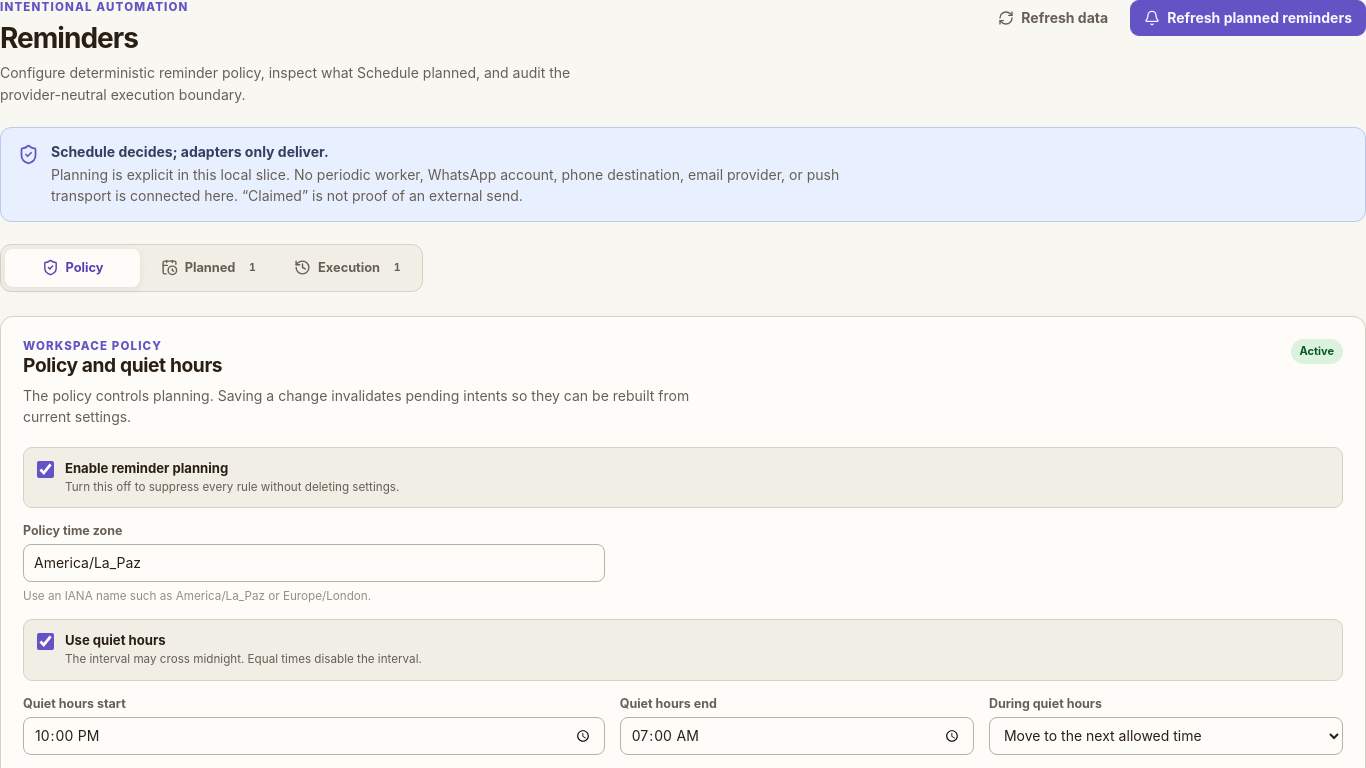
Scenario: RemindersView › requeues a dead-letter delivery, refreshes history, and does not claim an external send
Expected: the heading "Policy and quiet hours" is shown, [23,353,222,377]
What coordinates should you click on to do the following:
click the tab "Execution 1"
I would click on:
 (351, 268)
Its box is [283,249,418,287].
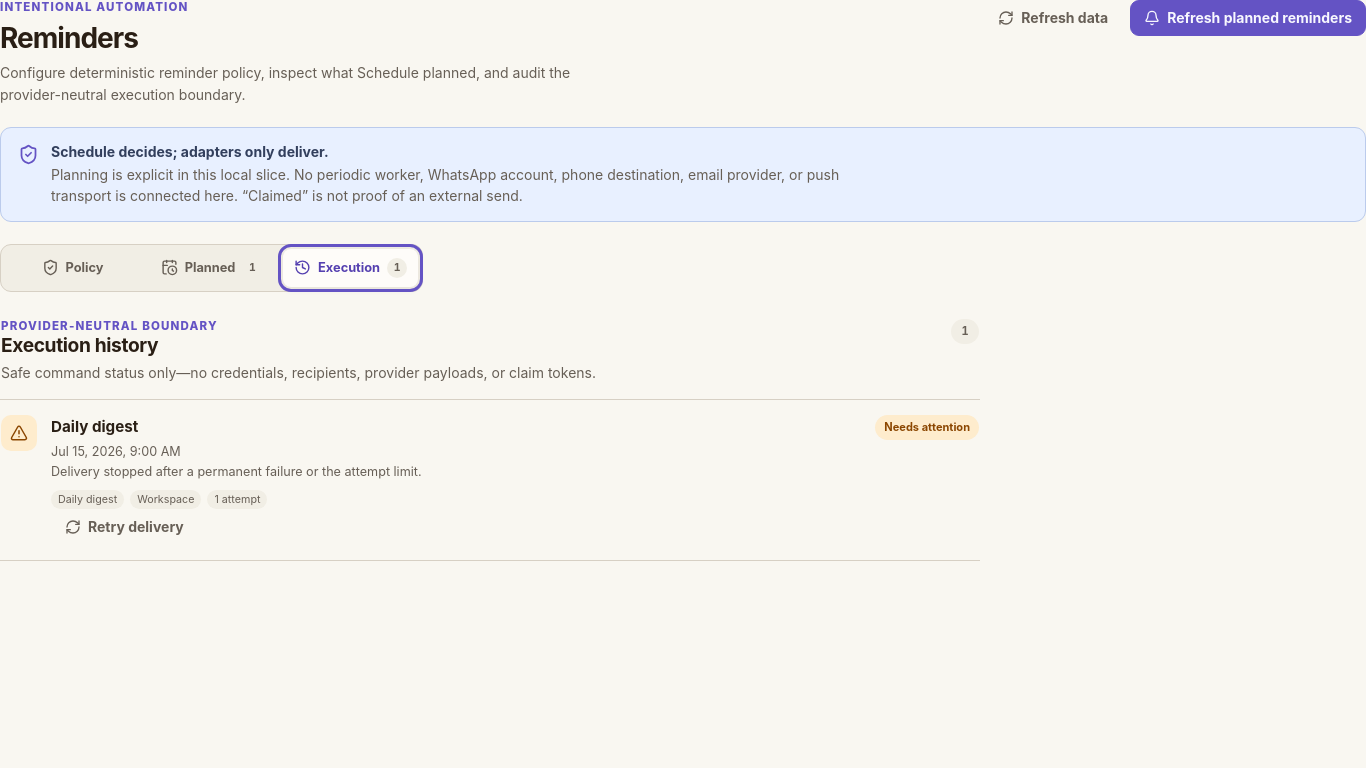
What coordinates should you click on to do the following:
click the button with aria-label "Retry delivery for Daily digest (delivery-digest)"
I would click on:
 (124, 527)
Its box is [51,509,198,545].
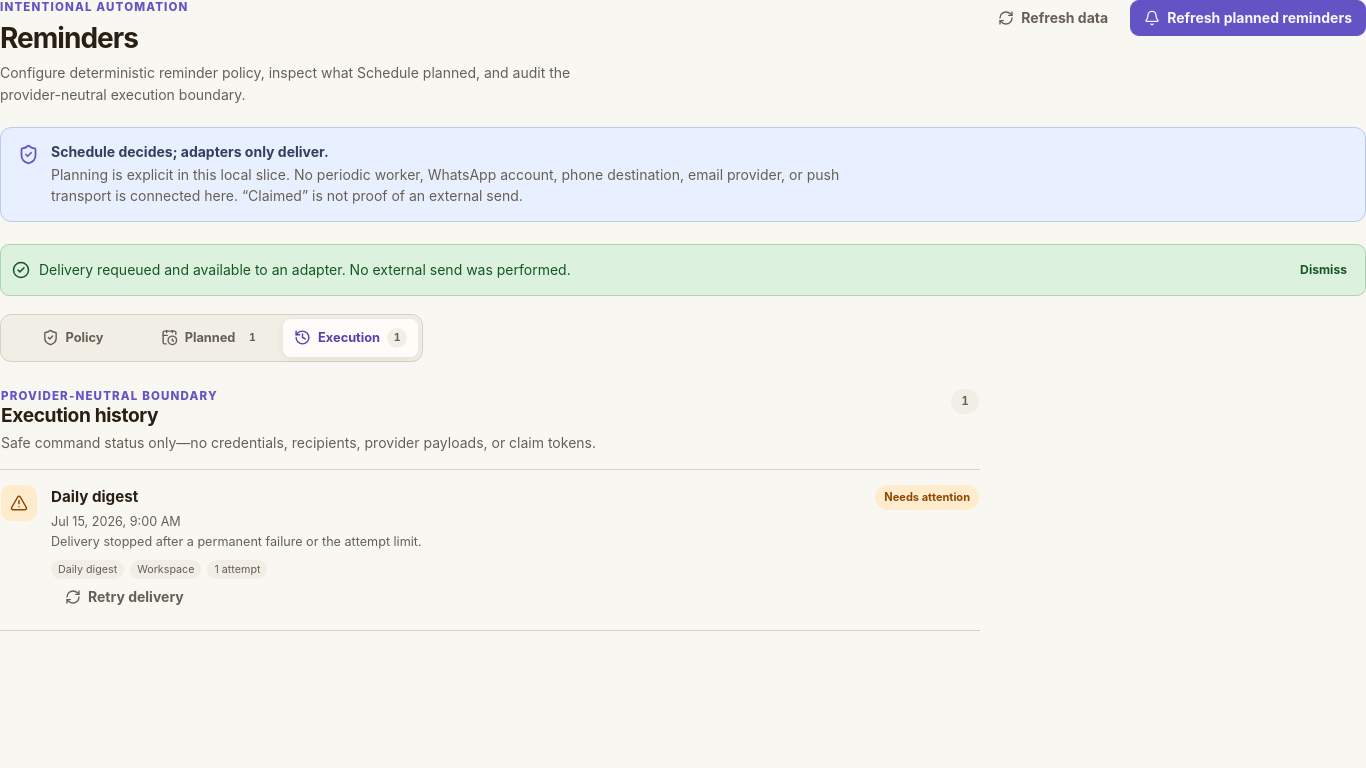
Expected: the message shows "Delivery requeued and available to an adapter. No external send was performed.", [39,261,571,278]
